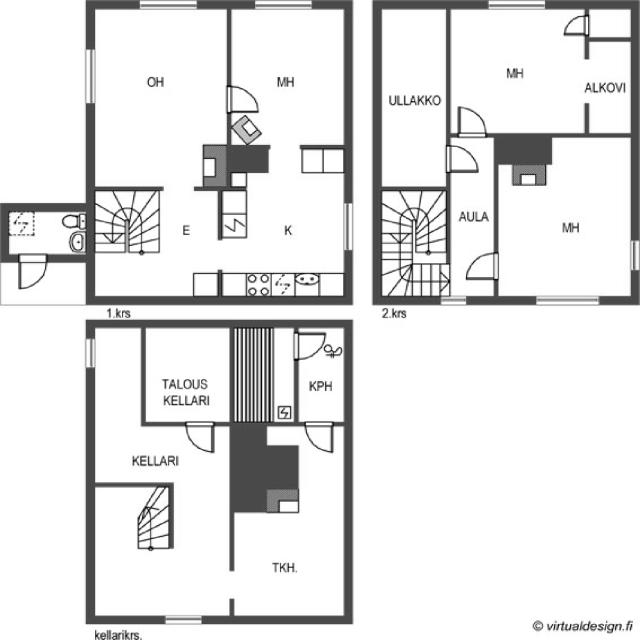door: (446, 104, 488, 170), (450, 102, 492, 140), (460, 249, 503, 284), (14, 252, 51, 292), (441, 141, 482, 177), (222, 82, 264, 116), (183, 419, 216, 456), (302, 420, 336, 455), (290, 331, 326, 360), (558, 11, 592, 39)
window: (79, 44, 99, 110), (530, 292, 604, 308), (134, 0, 203, 14), (249, 0, 317, 14), (483, 0, 549, 14), (155, 611, 209, 628), (340, 196, 354, 257), (83, 335, 98, 372), (626, 236, 640, 275), (436, 293, 472, 307)
zone: (88, 2, 229, 190), (494, 141, 636, 301), (217, 156, 351, 300), (447, 4, 586, 138), (224, 2, 348, 150), (88, 187, 222, 303), (228, 498, 349, 620), (378, 3, 449, 190), (142, 327, 231, 423), (230, 324, 295, 424), (296, 325, 346, 423), (585, 38, 632, 135), (2, 209, 91, 257), (584, 8, 634, 41)
